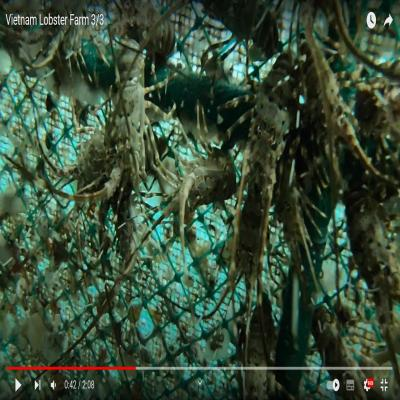lobster: (104, 52, 150, 182), (246, 56, 292, 178), (171, 144, 236, 210), (115, 2, 172, 55)
